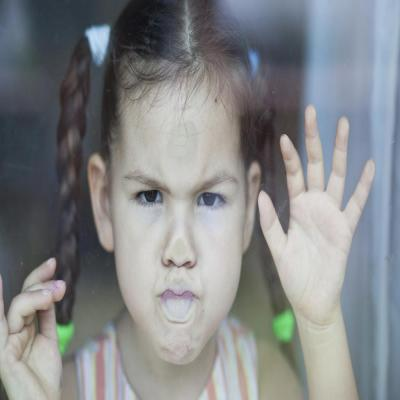angry: (104, 50, 256, 362)
